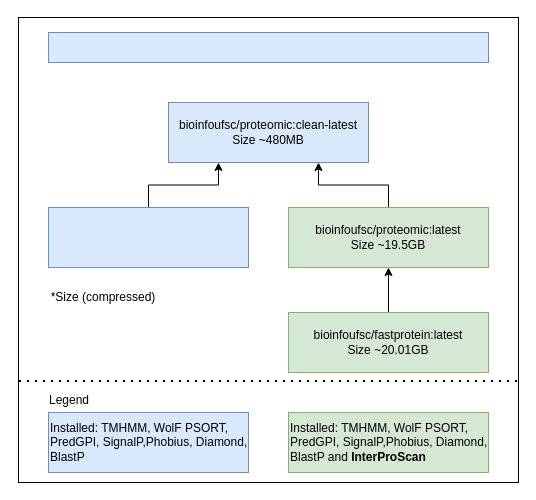
The diagram is 536 pixels wide and 500 high, and some of its shapes have lost their labels. The box of each missing label's shape, as (x1, y1, x2, y2) in pixels:
bioinfoufsc/fastprotein:clean-latest Size ~1.63GB: (48, 206, 248, 268)
Docker schema: (48, 32, 488, 62)
